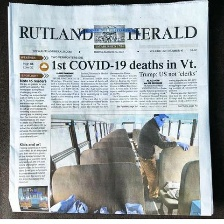news_paper: (3, 0, 215, 217)
